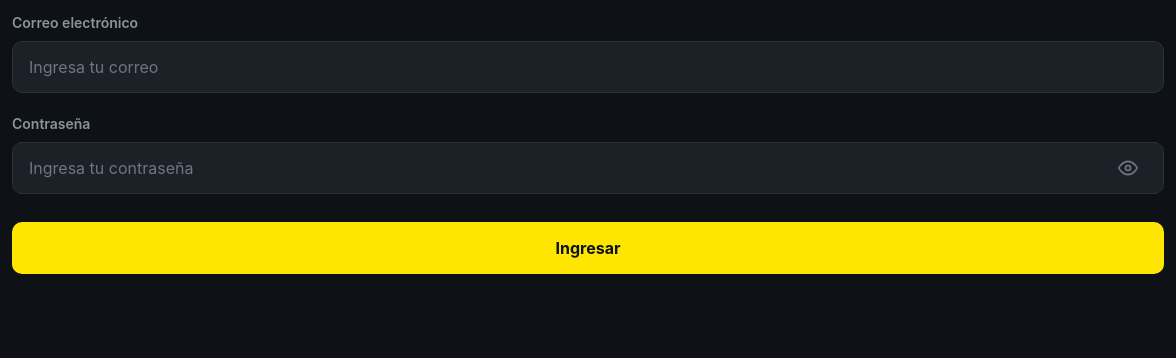
Test: LoginForm › Submit › shows error message on login failure
Type "test@example.com" into the field labelled "Correo electrónico" at coordinates (588, 67), box [12, 41, 1164, 93]
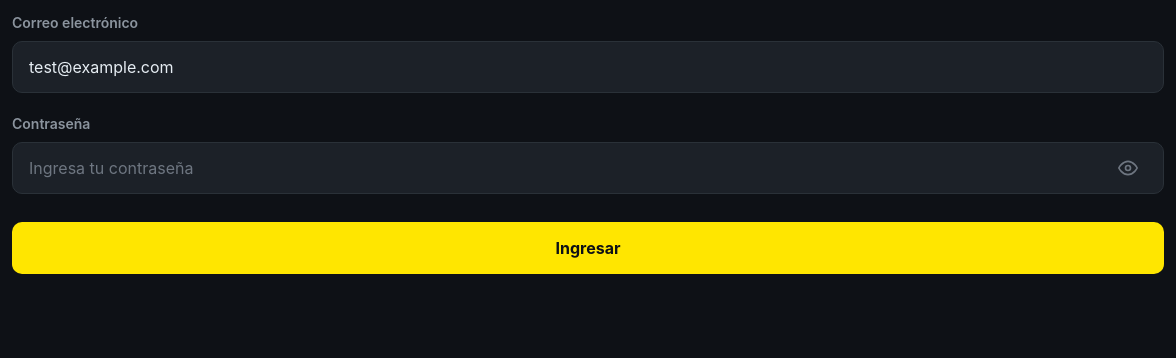
Type "password123" into the password field labelled "Contraseña" at coordinates (588, 168), box [12, 142, 1164, 194]
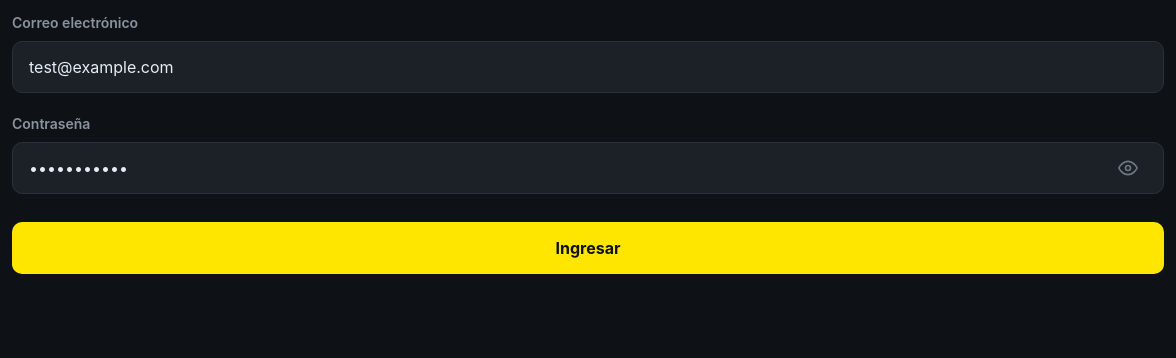
Click the button "Ingresar" at coordinates (588, 248), box [12, 222, 1164, 274]
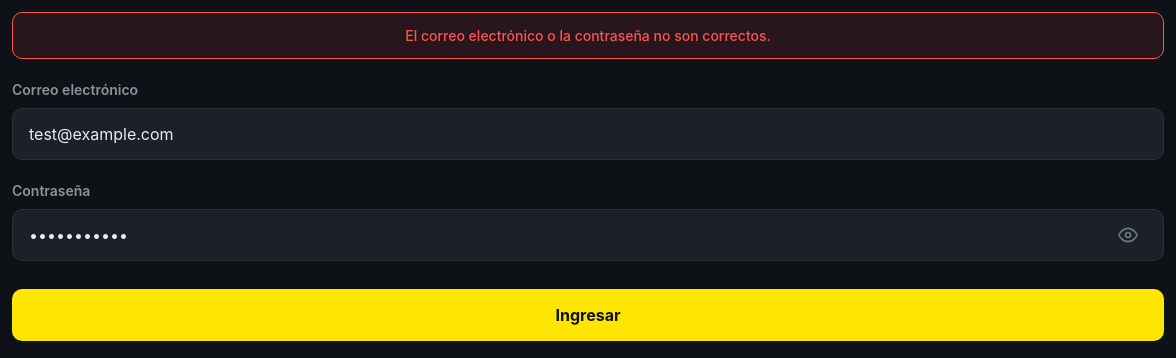
Expected: the button "Ingresar" is shown, [12, 289, 1164, 341]
Now the message reads "El correo electrónico o la contraseña no son correctos.", box [405, 27, 771, 44]
